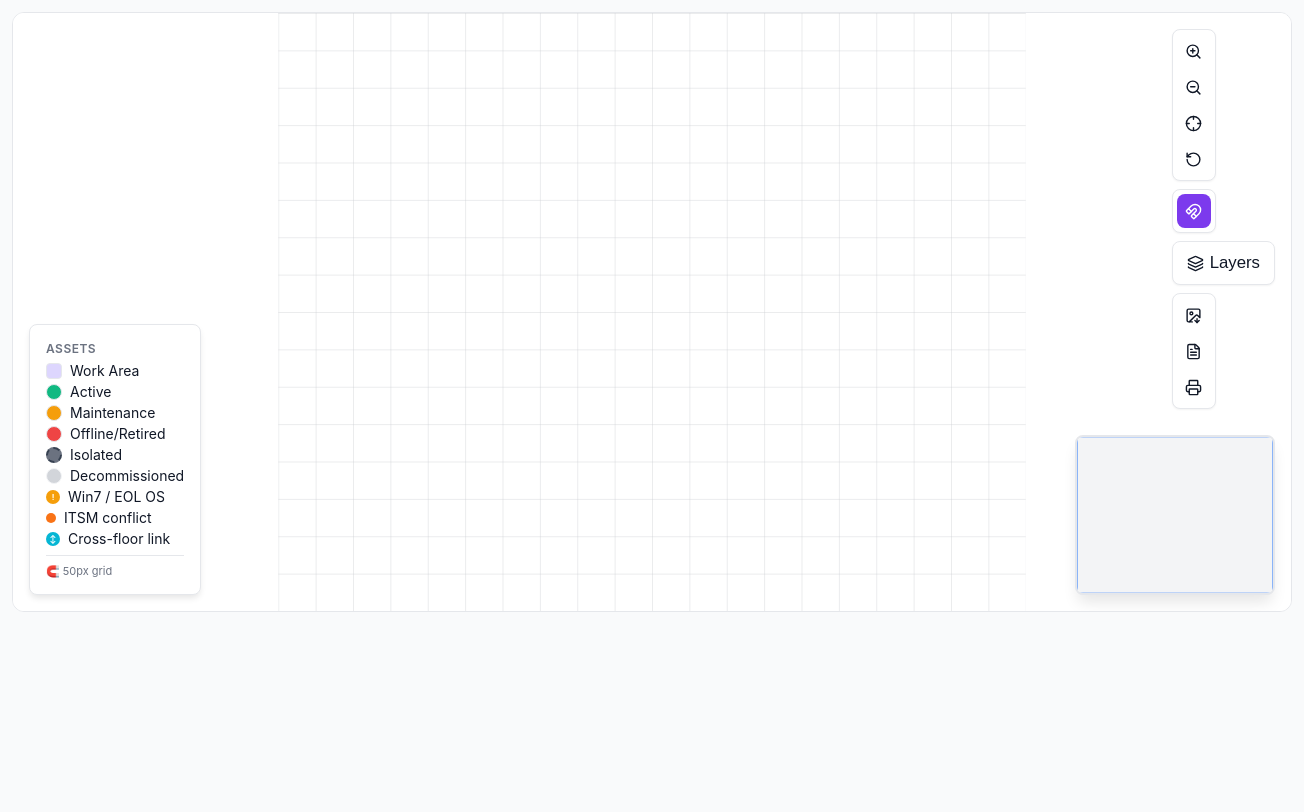
Scenario: FloorMap control rail › lists the layers by name, with their state in the checkboxes
Click the button "Layers" at point(1223, 263), box [1177,246,1270,280]
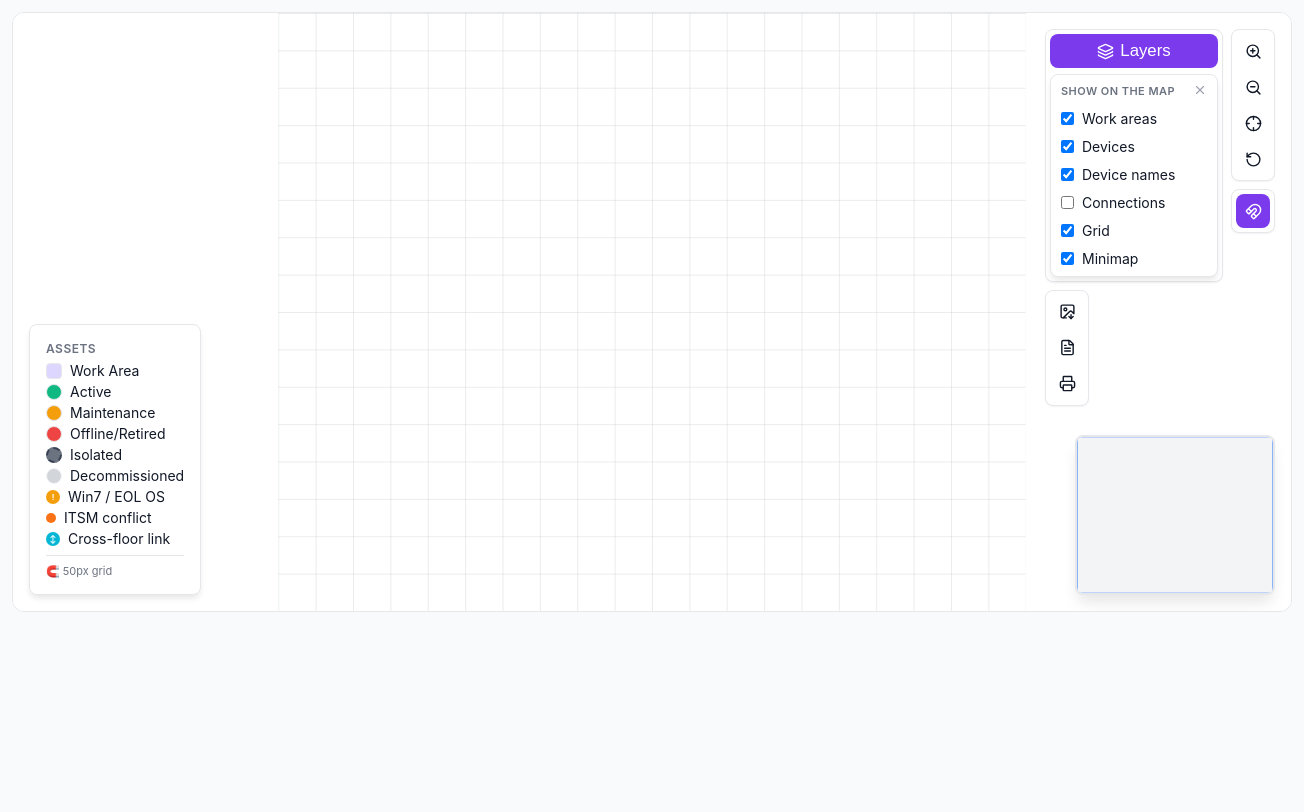
Check: the checkbox labelled "Work areas" is shown, box [1061,112,1074,125]
Check: the checkbox labelled "Devices" is shown, box [1061,140,1074,153]
Check: the checkbox labelled "Device names" is shown, box [1061,168,1074,181]
